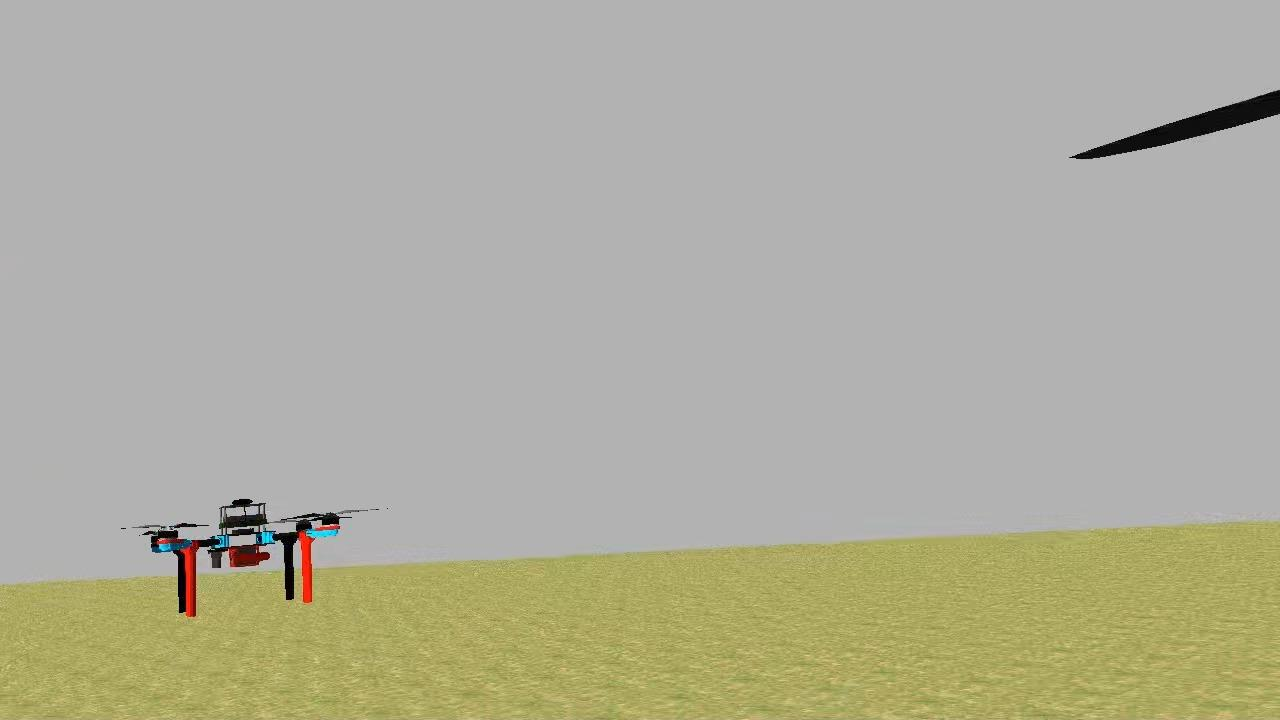UAV: (142, 494, 342, 618)
